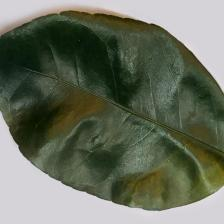healthy: (22, 26, 184, 202)
